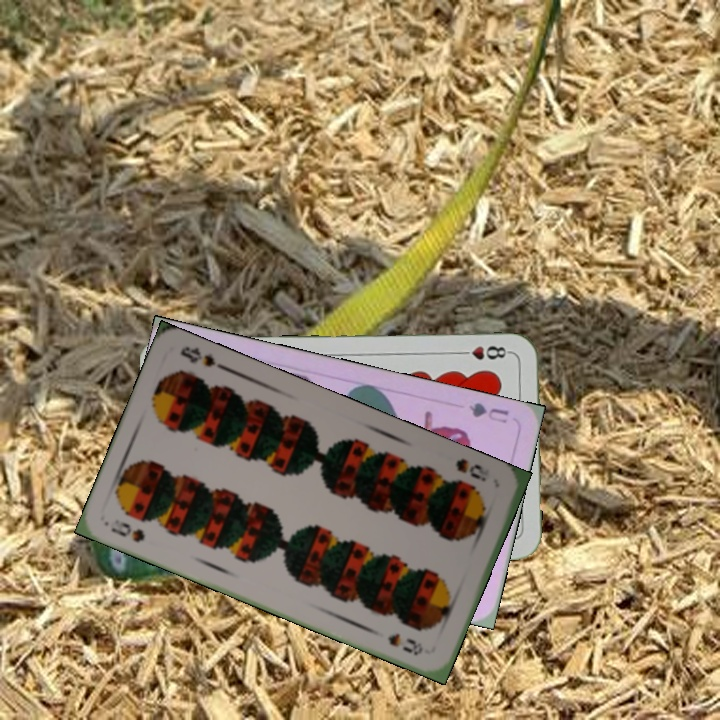GU: (464, 398, 512, 426)
H8: (454, 342, 513, 362)
S8: (451, 454, 492, 484), (106, 517, 148, 545)
